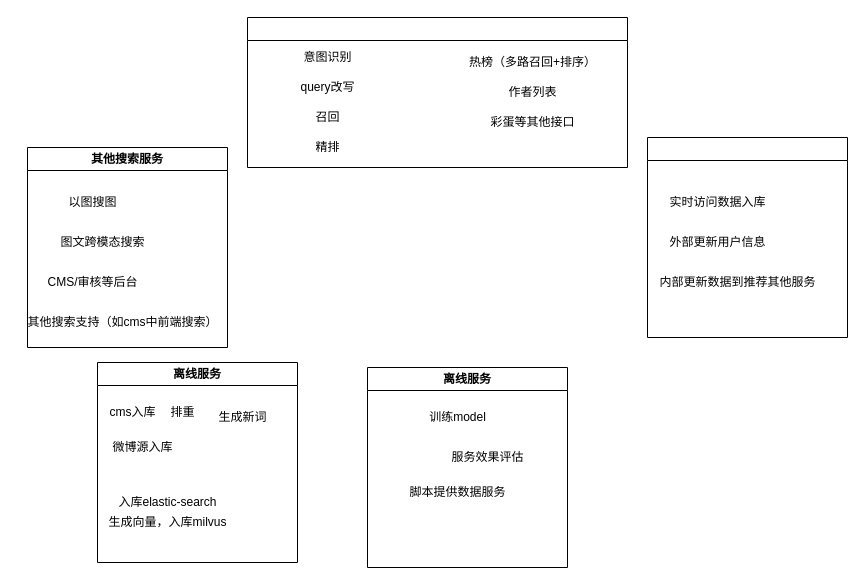
This 865x585 diagram has some shape labels left out. The shapes that lost their labels are listed below. From the top down, each one's box as (x1, y1, x2, y2) in pixels, then its label:
(246, 16, 628, 168): online搜索服务
(646, 136, 848, 338): nearline服务
